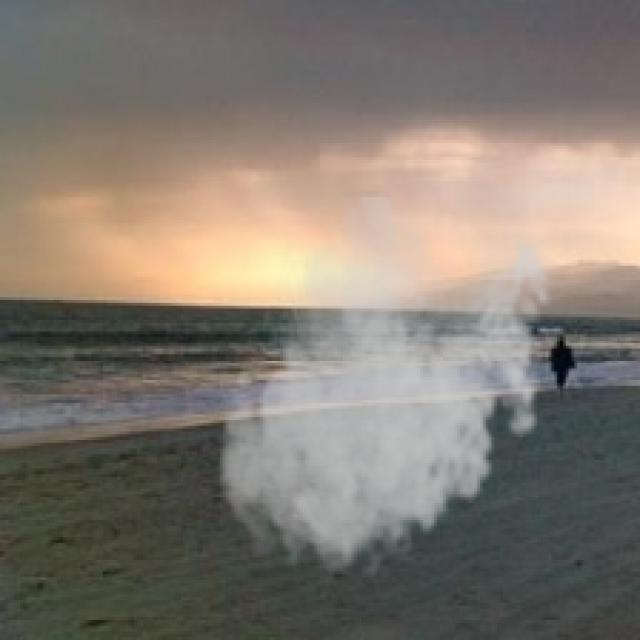smoke: (211, 191, 563, 586)
